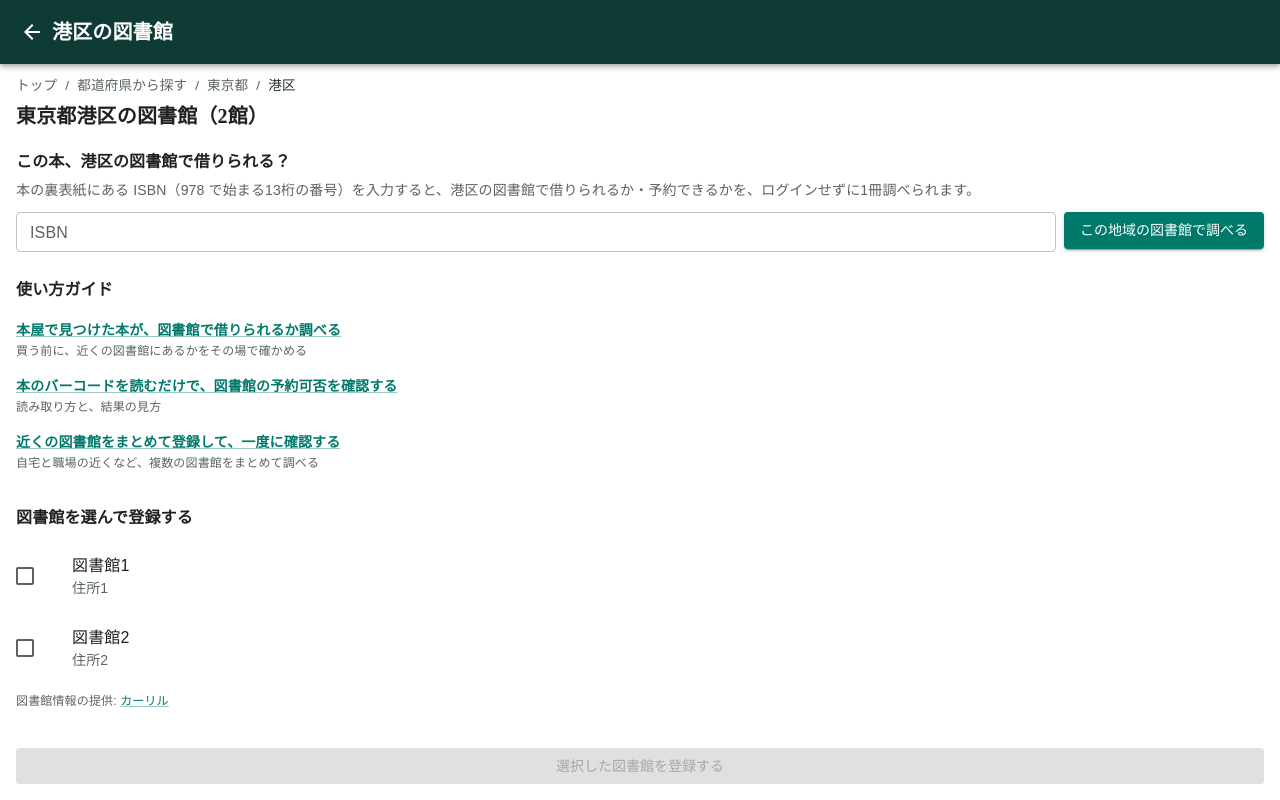
Scenario: LibraryListPage › shows selected count in button
The image size is (1280, 800).
Click the text "図書館1" at (101, 566), box [72, 557, 130, 574]
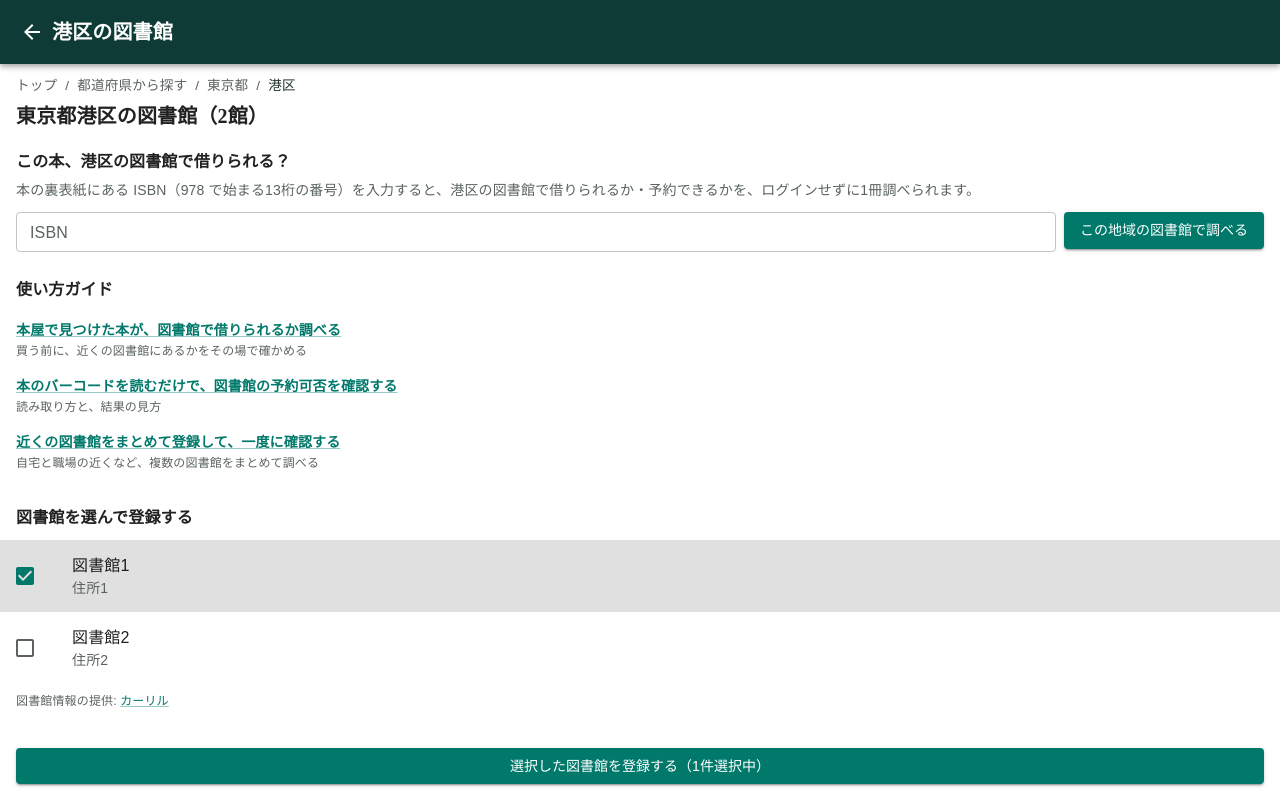
Expected: the button "選択した図書館を登録する（1件選択中）" is shown, [16, 748, 1264, 784]
